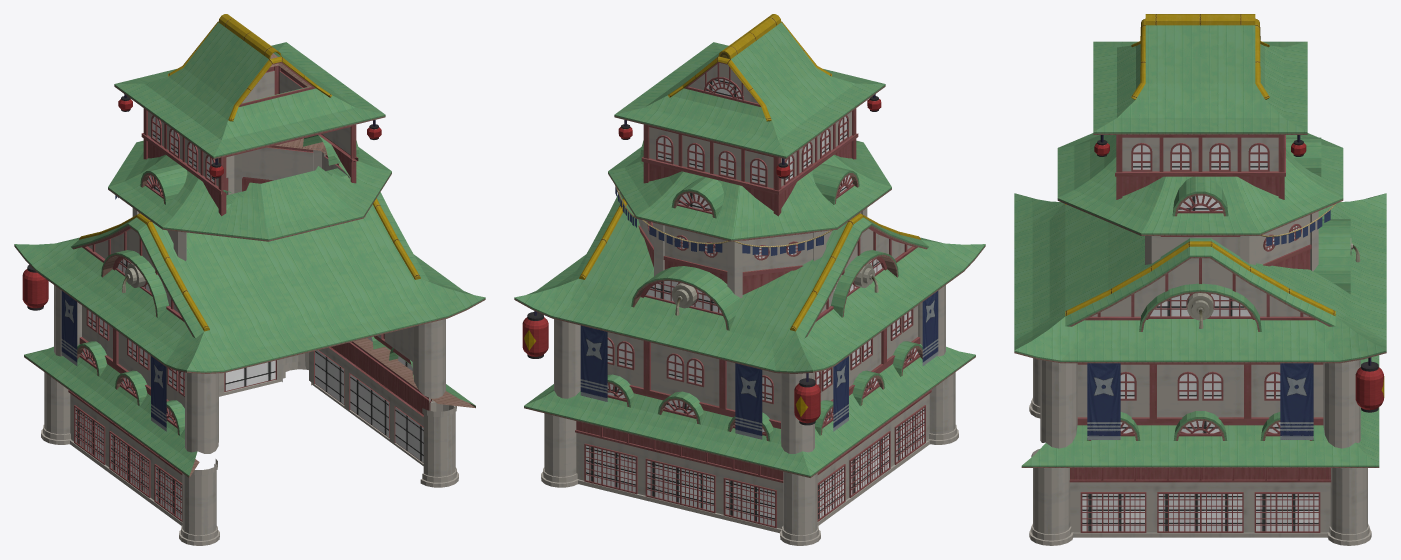
File: REDUCTION_SM_ENV_KNVLLG_CommonBuilding_J_2.fbx
3 views of the same model, side by side, from view 1: azimuth 30°, elevation 25°; view 2: azimuth 150°, elevation 25°; view 3: azimuth 270°, elevation 25° (orthographic). The views are drawn at different scales.
Parts seen in each view (by area): view 1: REDUCTION_SM_ENV_KNVLLG_CommonBuilding_J_2.mo; view 2: REDUCTION_SM_ENV_KNVLLG_CommonBuilding_J_2.mo; view 3: REDUCTION_SM_ENV_KNVLLG_CommonBuilding_J_2.mo.
Boxes of the visible parts, box(x1,y1,x2,y2) form: REDUCTION_SM_ENV_KNVLLG_CommonBuilding_J_2.mo: box(14, 14, 485, 545); REDUCTION_SM_ENV_KNVLLG_CommonBuilding_J_2.mo: box(514, 14, 985, 545); REDUCTION_SM_ENV_KNVLLG_CommonBuilding_J_2.mo: box(1014, 14, 1386, 545).
Size of the model in its own units: 5106 by 6945 by 5106.
